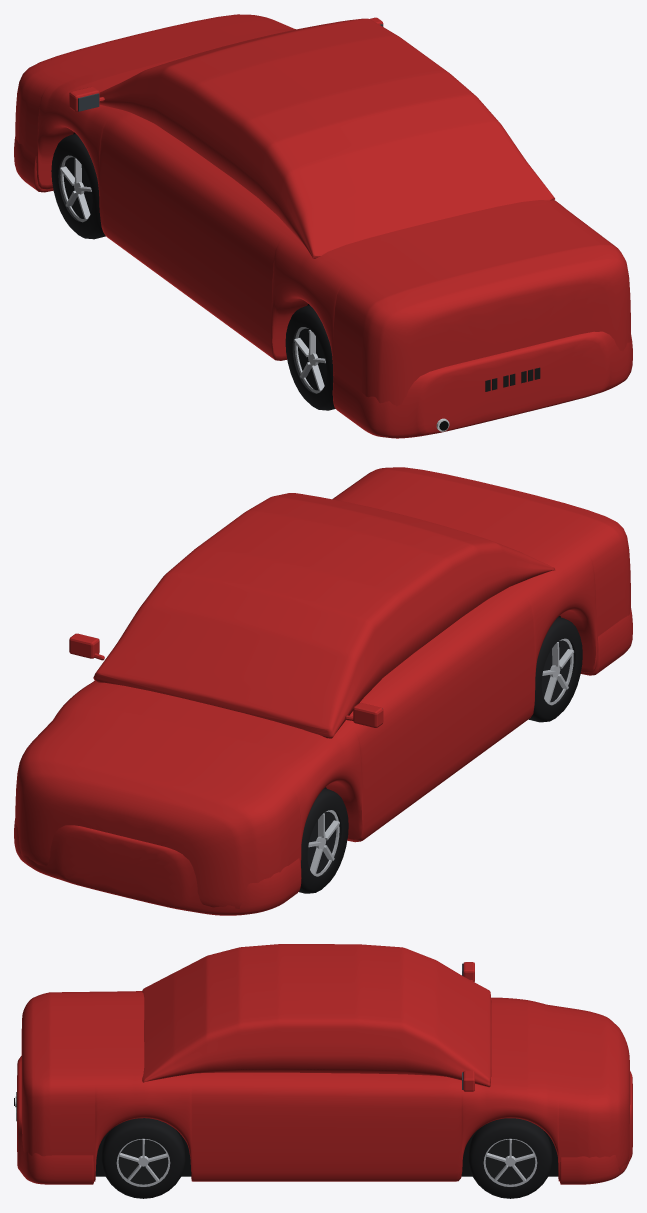
Rendered from traffic_sedan_red_merged.glb.
The picture shows the model from 3 angles, top to bottom: view 1: azimuth 30°, elevation 25°; view 2: azimuth 150°, elevation 25°; view 3: azimuth 270°, elevation 25°; orthographic projection. The views are drawn at different scales.
Visible parts, largest first — view 1: sedan_exh, sedan_tyre.002, sedan_tyre, sedan_rim.002, sedan_rim, sedan_dish.002, sedan_dish; view 2: sedan_exh, sedan_tyre, sedan_tyre.002, sedan_rim, sedan_rim.002, sedan_dish, sedan_dish.002; view 3: sedan_exh, sedan_tyre.001, sedan_tyre.003, sedan_dish.001, sedan_dish.003, sedan_rim.003, sedan_rim.001.
Part boxes in pixels (x1,y1,x2,y2): sedan_exh: (14,14,632,438); sedan_tyre.002: (51,134,105,239); sedan_tyre: (285,305,335,410); sedan_rim.002: (60,155,91,222); sedan_rim: (294,327,325,393); sedan_dish.002: (63,157,92,218); sedan_dish: (297,328,326,390); sedan_exh: (14,467,632,915); sedan_tyre: (528,617,582,722); sedan_tyre.002: (299,788,348,893); sedan_rim: (542,638,573,705); sedan_rim.002: (308,810,339,876); sedan_dish: (541,640,570,702); sedan_dish.002: (307,811,336,873); sedan_exh: (14,944,632,1184); sedan_tyre.001: (101,1118,185,1198); sedan_tyre.003: (468,1118,552,1198); sedan_dish.001: (118,1139,168,1184); sedan_dish.003: (485,1139,535,1184); sedan_rim.003: (483,1138,537,1186); sedan_rim.001: (116,1138,170,1186).
Size of the model in its own units: 2.13 by 1.48 by 4.72.
